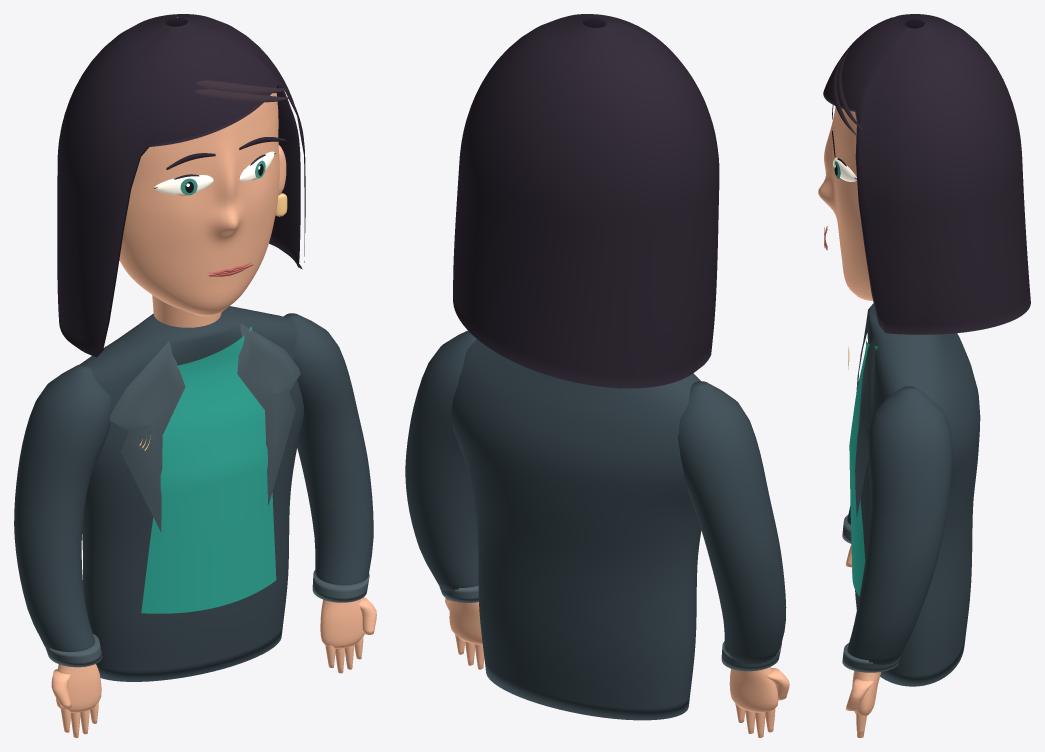
The model's file is andy.glb.
3 views of the same model, side by side, from view 1: azimuth 30°, elevation 25°; view 2: azimuth 150°, elevation 25°; view 3: azimuth 270°, elevation 25° (orthographic). The views are drawn at different scales.
Parts seen in each view (by area): view 1: Architectural swept bob, Structured graphite jacket, Jade inset, Sculpted facial contour, Left jacket sleeve, Right gesture sleeve, Tailored left notched lapel, Tailored right notched lapel, Right gesture hand, Left relaxed hand, Neck silhouette, Right satin cuff (+4 smaller); view 2: Architectural swept bob, Structured graphite jacket, Left jacket sleeve, Right gesture sleeve, Left relaxed hand, Right gesture hand; view 3: Architectural swept bob, Right gesture sleeve, Structured graphite jacket, Sculpted facial contour, Jade inset, Tailored right notched lapel, Right gesture hand, Right satin cuff, Right thumb, Soft swept ridge 1.
Part boxes in pixels (x1,y1,x2,y2): Architectural swept bob: [57, 14, 305, 357]; Structured graphite jacket: [80, 306, 303, 681]; Jade inset: [141, 326, 276, 613]; Sculpted facial contour: [119, 93, 279, 316]; Left jacket sleeve: [14, 364, 112, 651]; Right gesture sleeve: [283, 313, 373, 585]; Tailored left notched lapel: [109, 341, 185, 532]; Tailored right notched lapel: [237, 323, 300, 505]; Right gesture hand: [320, 599, 364, 648]; Left relaxed hand: [56, 664, 101, 712]; Neck silhouette: [152, 295, 221, 327]; Right satin cuff: [312, 570, 369, 602]; Architectural swept bob: [453, 14, 719, 388]; Structured graphite jacket: [451, 339, 701, 720]; Left jacket sleeve: [677, 381, 786, 664]; Right gesture sleeve: [405, 330, 478, 591]; Left relaxed hand: [729, 667, 778, 713]; Right gesture hand: [449, 600, 482, 645]; Architectural swept bob: [823, 14, 1030, 334]; Right gesture sleeve: [847, 386, 952, 665]; Structured graphite jacket: [855, 304, 980, 686]; Sculpted facial contour: [818, 106, 872, 300]; Jade inset: [849, 340, 877, 596]; Tailored right notched lapel: [855, 335, 875, 517]; Right gesture hand: [852, 671, 881, 715]; Right satin cuff: [842, 643, 900, 672]; Right thumb: [845, 678, 874, 710]; Soft swept ridge 1: [836, 21, 908, 129].
Bounding box in the file's own units: 1.2 × 2.2 × 0.658.
